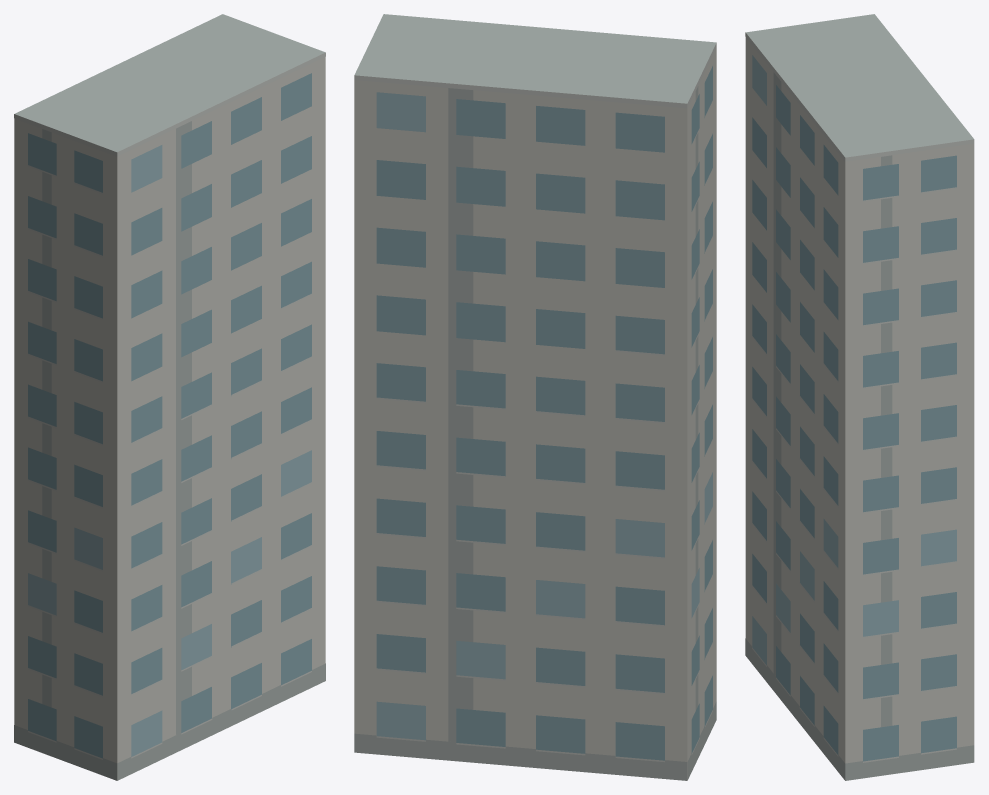
Rendered from residential-00e05432-f190-4211-8a80-378bf56407fa.glb.
The picture shows the model from 3 angles, left to right: view 1: azimuth 30°, elevation 25°; view 2: azimuth 150°, elevation 25°; view 3: azimuth 270°, elevation 25°; orthographic projection. The views are drawn at different scales.
Visible parts, largest first — view 1: residential-00e05432-f190-4211-8a80-378bf56407fa.tmp; view 2: residential-00e05432-f190-4211-8a80-378bf56407fa.tmp; view 3: residential-00e05432-f190-4211-8a80-378bf56407fa.tmp.
Boxes of the visible parts, <box> form: residential-00e05432-f190-4211-8a80-378bf56407fa.tmp: <box>14,14,325,780</box>; residential-00e05432-f190-4211-8a80-378bf56407fa.tmp: <box>354,14,716,780</box>; residential-00e05432-f190-4211-8a80-378bf56407fa.tmp: <box>745,14,974,780</box>.
Bounding box in the file's own units: 17.31 × 35 × 11.66.
